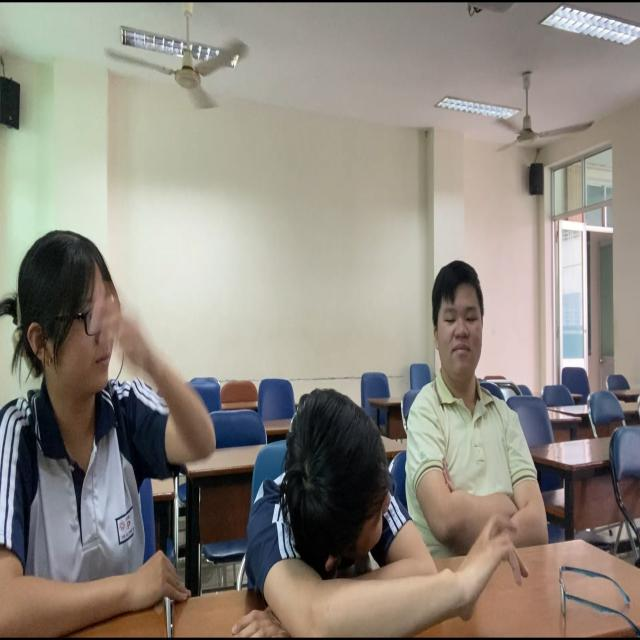sleep: (234, 380, 448, 640)
